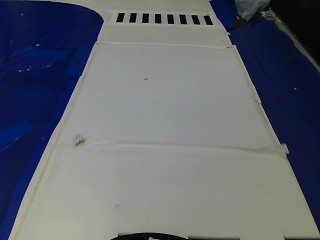crosswalk: (109, 8, 212, 29)
